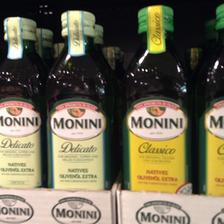Oel: (114, 4, 194, 192), (45, 10, 110, 190), (0, 16, 44, 186)
